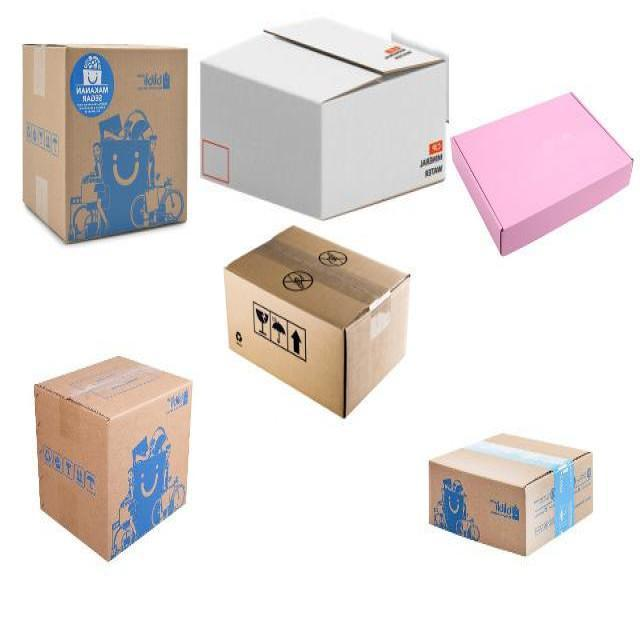Cardboard: (199, 19, 448, 216), (226, 223, 409, 419), (23, 45, 189, 248), (35, 355, 194, 563), (446, 89, 631, 256), (427, 431, 594, 557)
